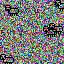sheep: (5, 5, 20, 17), (0, 54, 14, 64)
